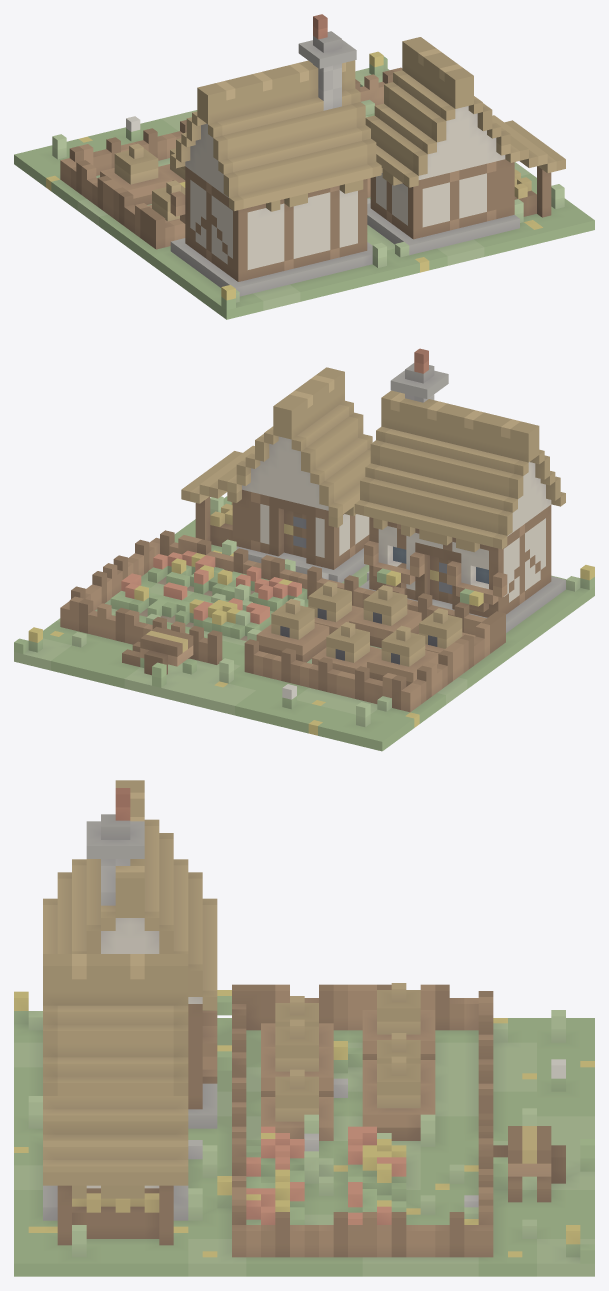
Rendered from apiary.glb.
3 views of the same model, one above another, from view 1: azimuth 30°, elevation 25°; view 2: azimuth 150°, elevation 25°; view 3: azimuth 270°, elevation 25° (orthographic). The views are drawn at different scales.
Visible parts, largest first — view 1: apiary; view 2: apiary; view 3: apiary.
Part boxes in pixels (box(x1,y1,x2,y2)): apiary: box(14, 14, 594, 319); apiary: box(14, 348, 594, 751); apiary: box(14, 780, 594, 1276).
Size of the model in its own units: 5 by 3.12 by 5.
